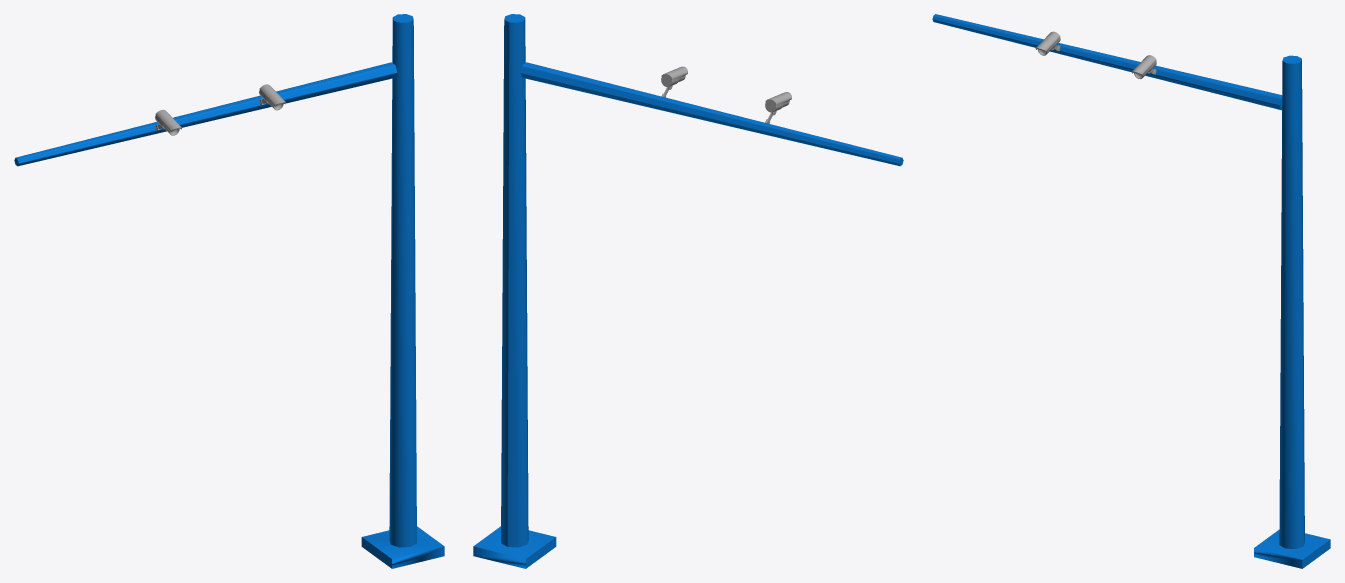
Rendered from poleWith2Camera3.glb.
The picture shows the model from 3 angles, left to right: view 1: azimuth 30°, elevation 25°; view 2: azimuth 150°, elevation 25°; view 3: azimuth 330°, elevation 25°; orthographic projection. The views are drawn at different scales.
Visible parts, largest first — view 1: node_id79, node_id67, node_id63; view 2: node_id79, node_id67, node_id63; view 3: node_id79, node_id67, node_id63.
Part boxes in pixels (left/top/right/bottom): node_id79: left=389, top=14, right=416, bottom=547; node_id67: left=16, top=62, right=397, bottom=166; node_id63: left=361, top=526, right=444, bottom=568; node_id79: left=501, top=14, right=528, bottom=547; node_id67: left=520, top=62, right=901, bottom=166; node_id63: left=473, top=526, right=556, bottom=568; node_id79: left=1279, top=55, right=1304, bottom=548; node_id67: left=932, top=14, right=1282, bottom=109; node_id63: left=1254, top=529, right=1330, bottom=568.
Bounding box in the file's own units: 0.3948 × 0.487 × 0.0656.
Materials: 13 (13 with a texture image).
